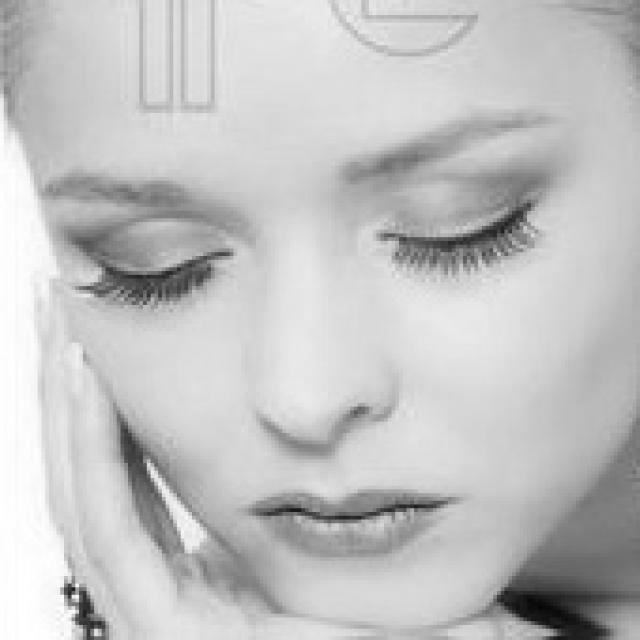real: (50, 6, 618, 582), (74, 184, 565, 309)
